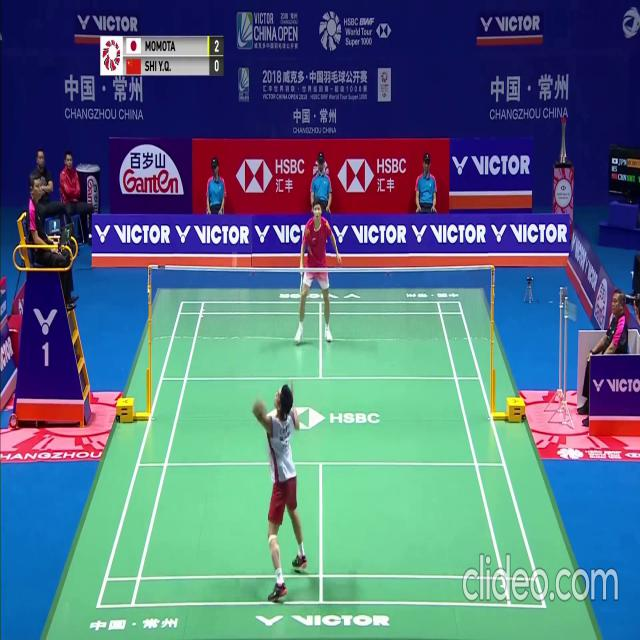Shuttlecock: (232, 264, 236, 271)
